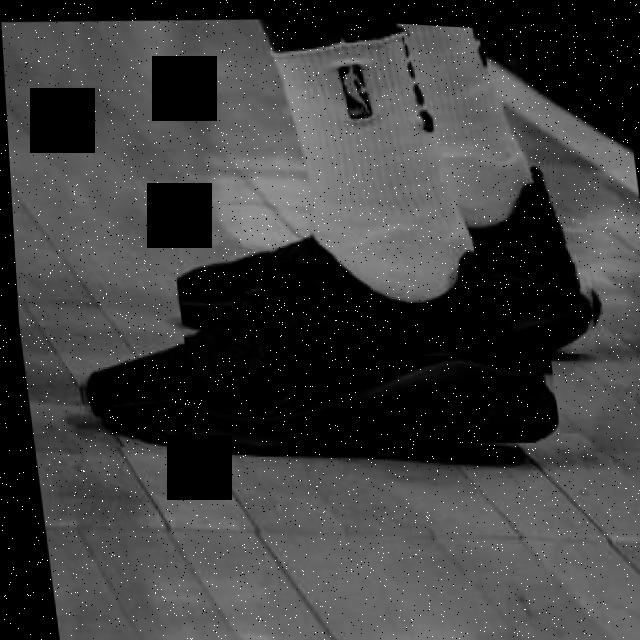shoe: (52, 197, 558, 469), (159, 142, 605, 375)
